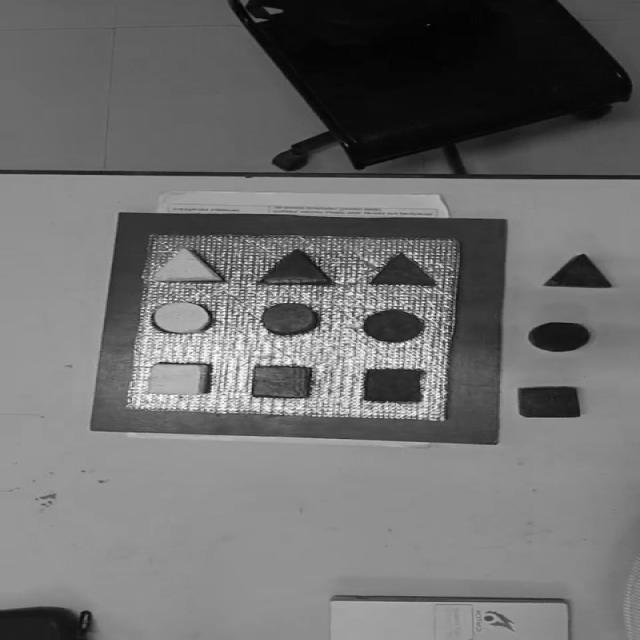bcircle: (525, 321, 591, 353)
bcube: (516, 384, 582, 418)
btriangle: (544, 253, 614, 289)
mtcircle: (361, 309, 424, 343)
mtcube: (362, 368, 425, 403)
mttriangle: (368, 252, 438, 287)
rcircle: (259, 302, 319, 335)
rcube: (250, 365, 311, 399)
rtriangle: (259, 248, 330, 285)
wb: (125, 234, 461, 422)
ycircle: (150, 300, 214, 335)
ycube: (146, 362, 210, 396)
ytriangle: (150, 247, 224, 283)
